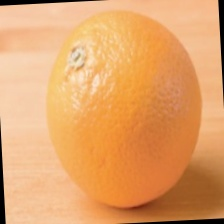orange: (37, 36, 203, 201)
